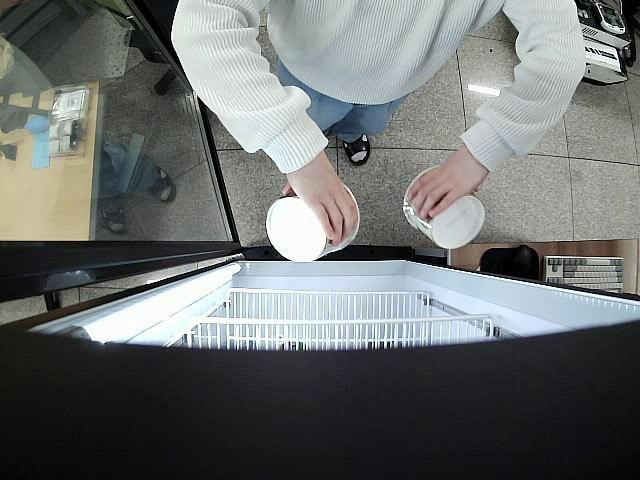03_chapagetti_L: (266, 182, 360, 262), (406, 165, 490, 248)
